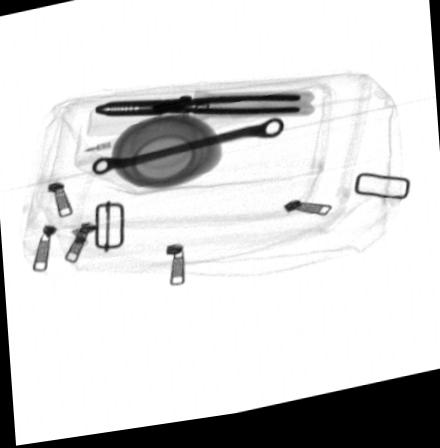Pliers: (90, 100, 301, 122)
Wrench: (90, 124, 283, 179)
